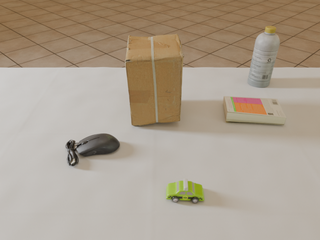book: (223, 96, 286, 125)
bottle: (248, 26, 280, 87)
box: (125, 34, 184, 126)
mouse: (65, 134, 120, 166)
toy_car: (166, 179, 204, 203)
